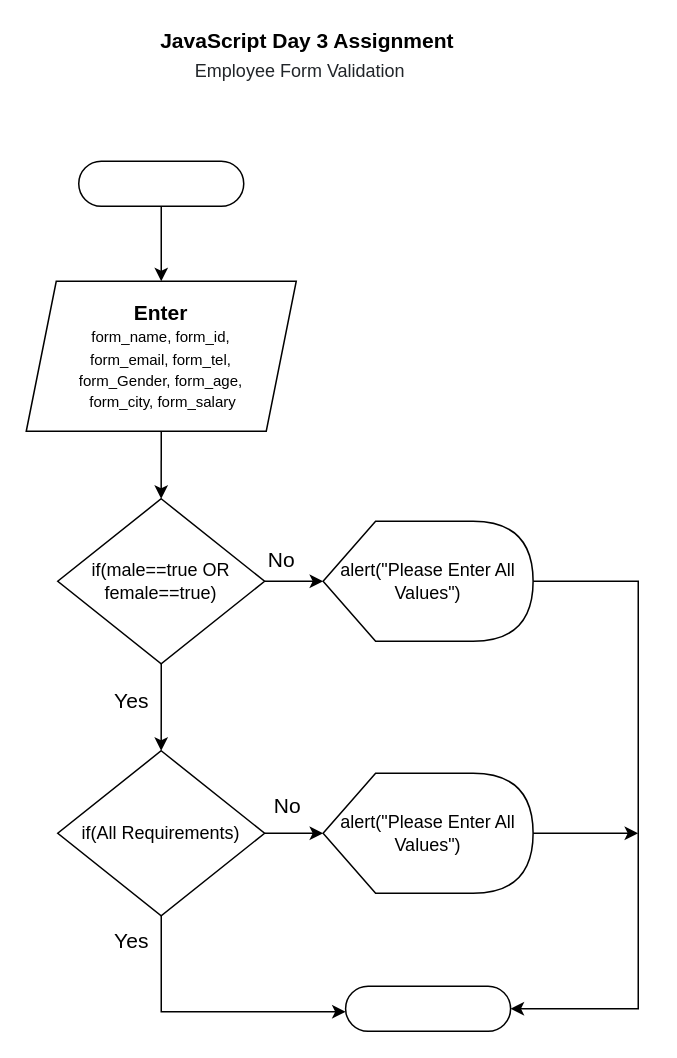
This 677x1058 diagram has some shape labels left out. The shapes that lost their labels are listed below. From the top down, each one's centre as x and y in pixels, then its label:
At point 160,183: "Start".
At point 427,1008: "Stop".
